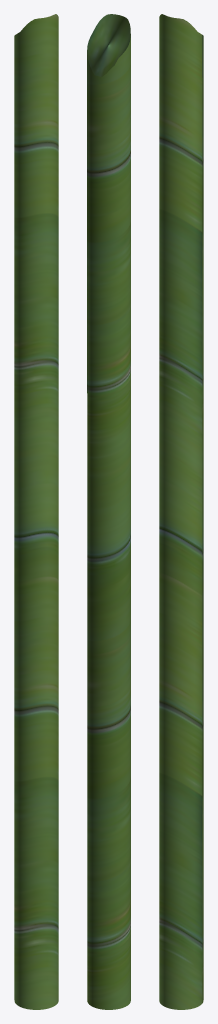
File: Bambu Runcing.fbx
The picture shows the model from 3 angles, left to right: view 1: azimuth 30°, elevation 25°; view 2: azimuth 150°, elevation 25°; view 3: azimuth 330°, elevation 25°; orthographic projection.
Visible parts, largest first — view 1: Cylinder; view 2: Cylinder; view 3: Cylinder.
Boxes of the visible parts, x1,y1,x2,y2 form: Cylinder: (14,14,58,1009); Cylinder: (87,14,130,1009); Cylinder: (159,14,203,1009).
Bounding box in the file's own units: 12.46 × 308 × 12.46.
Materials: 1 (1 with a texture image).
